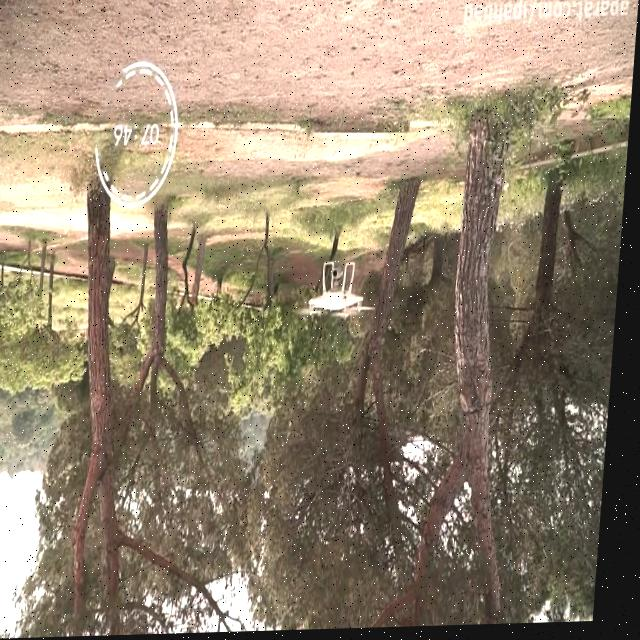drone: (297, 261, 386, 325)
